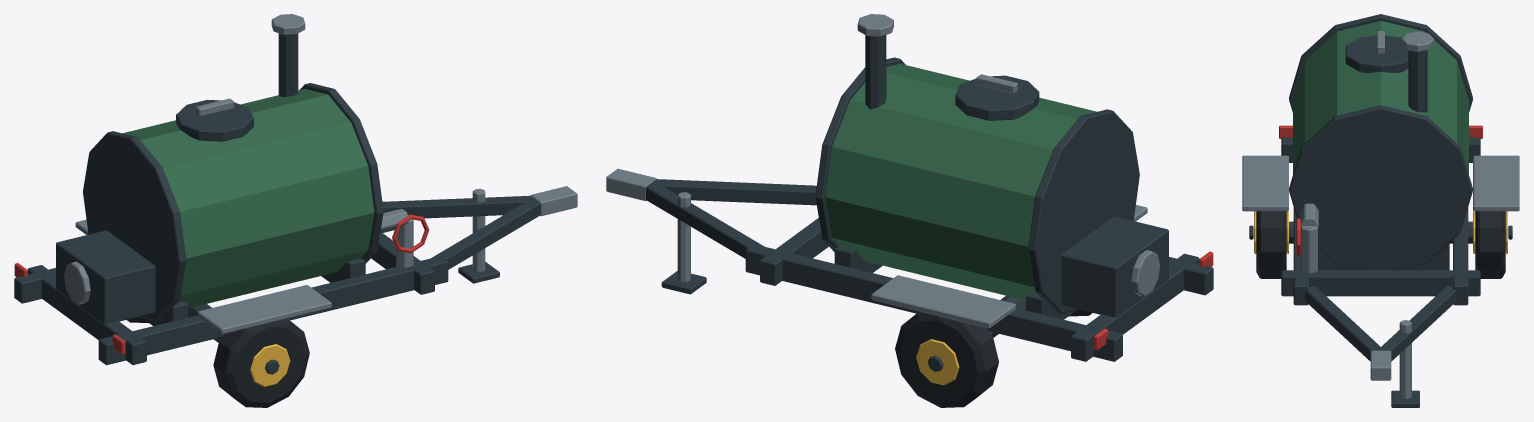
Rendered from b07_asphalt_patch_kettle_trailer.glb.
The picture shows the model from 3 angles, left to right: view 1: azimuth 30°, elevation 25°; view 2: azimuth 150°, elevation 25°; view 3: azimuth 270°, elevation 25°; orthographic projection. The views are drawn at different scales.
Visible parts, largest first — view 1: b07_asphalt_patch_kettle_trailer; view 2: b07_asphalt_patch_kettle_trailer; view 3: b07_asphalt_patch_kettle_trailer.
Boxes of the visible parts, left/top/right/bottom form: b07_asphalt_patch_kettle_trailer: left=14, top=14, right=577, bottom=407; b07_asphalt_patch_kettle_trailer: left=606, top=14, right=1213, bottom=407; b07_asphalt_patch_kettle_trailer: left=1242, top=14, right=1519, bottom=407.
Size of the model in its own units: 4.08 by 2.29 by 2.02.
